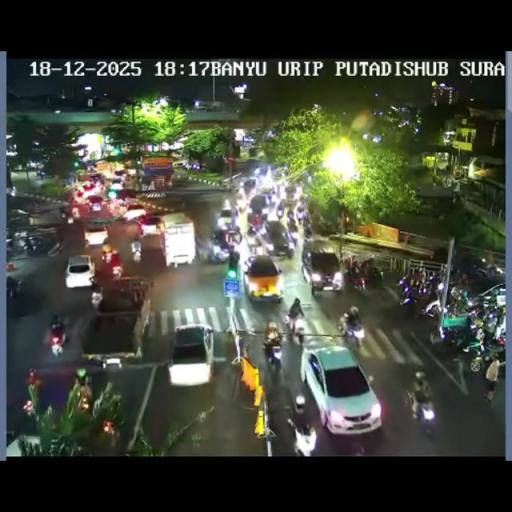Car: (301, 344, 381, 434), (80, 282, 154, 362), (168, 322, 215, 386), (300, 239, 342, 293), (156, 213, 196, 267), (242, 254, 284, 303), (262, 219, 294, 258), (65, 254, 95, 289), (247, 193, 273, 225), (84, 224, 108, 246), (109, 188, 139, 205), (122, 202, 148, 221), (216, 207, 234, 232), (84, 194, 106, 212), (110, 177, 124, 189)
Motorcycle: (462, 328, 503, 373), (429, 317, 470, 357), (422, 286, 462, 322), (406, 382, 437, 428), (8, 401, 35, 448), (92, 418, 119, 455), (291, 423, 317, 456), (74, 369, 92, 411), (401, 287, 425, 318), (340, 318, 364, 348), (286, 311, 307, 344), (262, 336, 282, 370), (101, 244, 120, 275), (482, 309, 502, 338), (48, 325, 66, 356), (345, 265, 366, 291), (206, 240, 230, 262), (364, 264, 385, 288), (22, 234, 44, 256), (466, 302, 488, 324), (88, 277, 102, 308), (6, 275, 21, 303), (6, 234, 24, 256), (344, 438, 365, 456), (295, 204, 310, 229), (246, 219, 265, 238), (480, 262, 502, 278), (46, 239, 65, 257), (82, 355, 106, 369), (408, 266, 423, 288), (418, 278, 434, 296), (272, 182, 286, 202), (235, 186, 248, 206), (130, 242, 142, 262), (286, 215, 298, 234), (302, 222, 313, 240), (274, 200, 285, 218), (344, 255, 355, 270), (458, 272, 469, 286), (226, 180, 237, 192), (254, 244, 264, 256), (138, 220, 144, 238), (36, 168, 46, 178), (66, 214, 74, 224)
